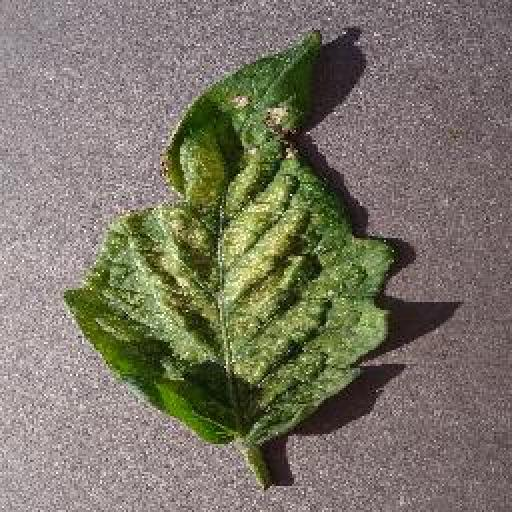disease_tomato: (69, 34, 399, 442)
